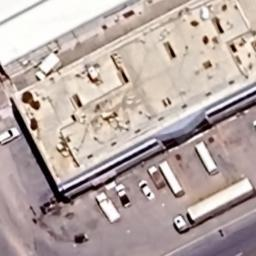SUV: (0, 126, 21, 146)
sedan: (138, 180, 156, 200)
truck: (172, 177, 256, 234), (158, 159, 186, 198), (194, 140, 220, 176), (94, 191, 122, 224), (34, 52, 64, 82), (147, 163, 167, 190), (114, 183, 132, 209)
